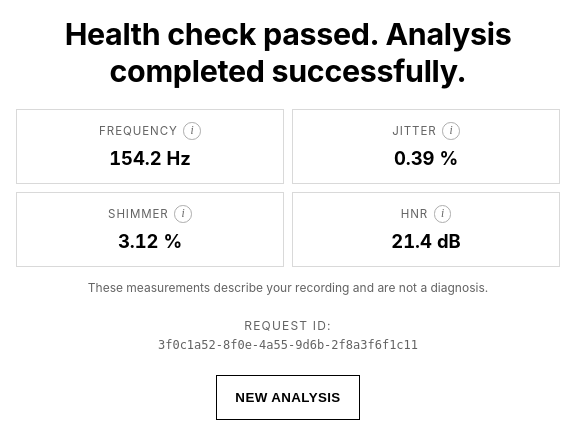
it: AnalysisPage › voice measurements › closes the explanation on Escape or a click elsewhere
The width and height of the screenshot is (577, 437).
Click the button named "What is Shimmer?" at (183, 214), box left=174, top=205, right=192, bottom=223
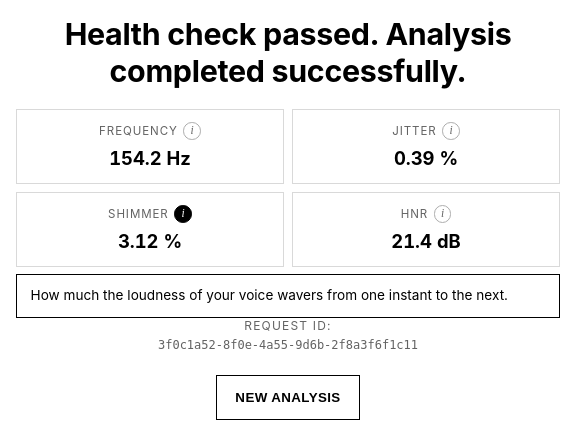
Press Escape
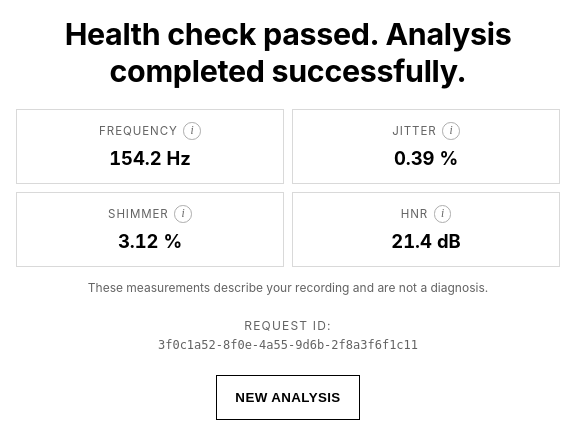
expect the text "loudness of your voice wavers" is gone: met
Click the button named "What is Shimmer?" at (183, 214), box left=174, top=205, right=192, bottom=223
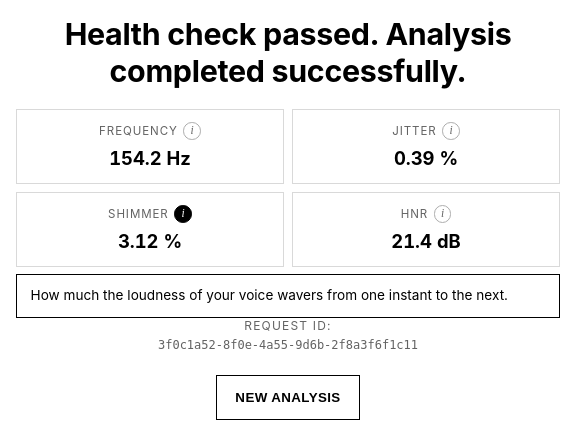
Click the heading "Health check passed. Analysis completed successfully." at (288, 53), box left=42, top=16, right=534, bottom=89
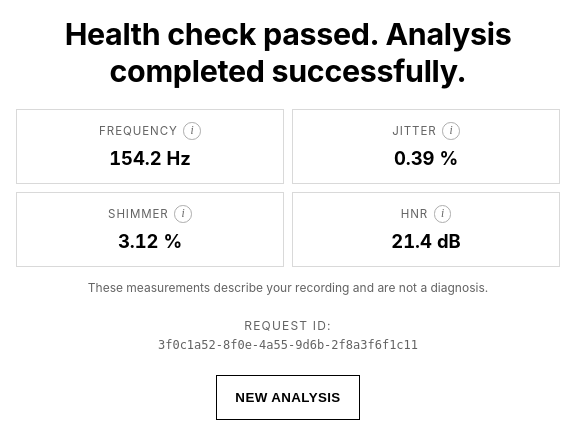
expect the text "loudness of your voice wavers" is gone: met
